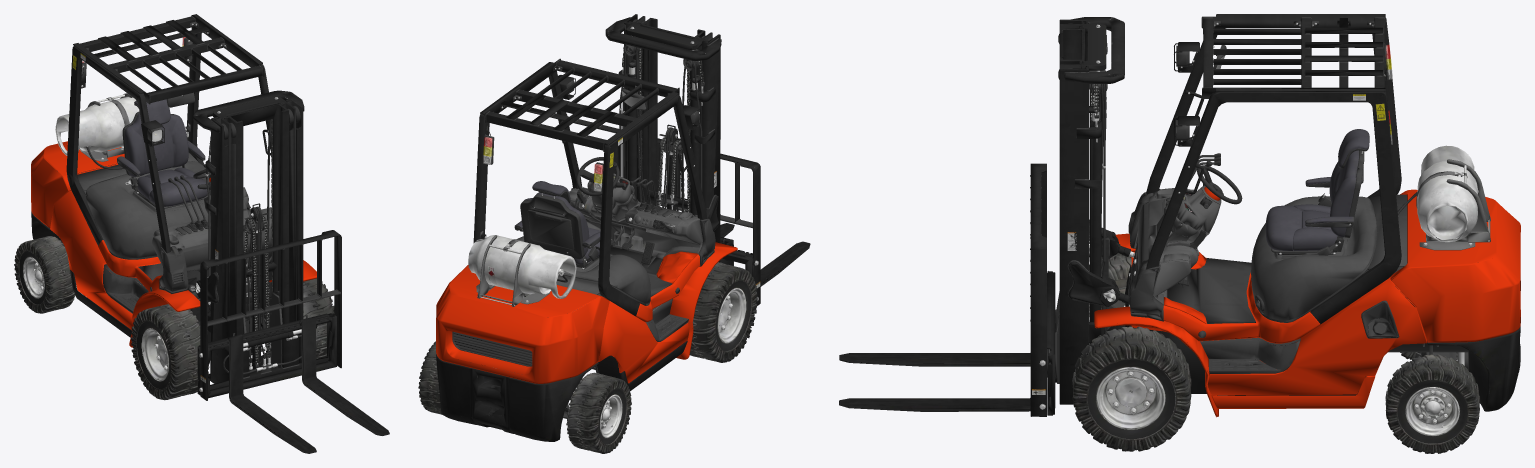
File: fork_red.glb
The picture shows the model from 3 angles, left to right: view 1: azimuth 30°, elevation 25°; view 2: azimuth 150°, elevation 25°; view 3: azimuth 270°, elevation 25°; orthographic projection. The views are drawn at different scales.
Visible parts, largest first — view 1: sm_body_c01_mesh_00, sm_mast_stage2_c01_mesh_00, sm_mast_stage4_c01_mesh_00, sm_wheel4_c01_mesh_00, sm_seat_c01_mesh_00, sm_mast_stage1_c01_mesh_00, sm_wheel2_c01_mesh_00, sm_mast_stage3_c01_mesh_00, sm_fork2_c01_mesh_00, sm_fork1_c01_mesh_00, sm_wheel3_c01_mesh_00, sm_seat_head_top_c01_mesh_00; view 2: sm_body_c01_mesh_00, sm_wheel4_c01_mesh_00, sm_wheel2_c01_mesh_00, sm_mast_stage2_c01_mesh_00, sm_seat_c01_mesh_00, sm_mast_stage4_c01_mesh_00, sm_mast_stage1_c01_mesh_00, sm_wheel1_c01_mesh_00, sm_fork1_c01_mesh_00, sm_steering_wheel_c01_mesh_00, sm_lightglass_c01_mesh_00, sm_seat_head_top_c01_mesh_00; view 3: sm_body_c01_mesh_00, sm_wheel3_c01_mesh_00, sm_wheel1_c01_mesh_00, sm_seat_c01_mesh_00, sm_mast_stage4_c01_mesh_00, sm_fork2_c01_mesh_00, sm_fork1_c01_mesh_00, sm_mast_stage1_c01_mesh_00, sm_mast_stage3_c01_mesh_00, sm_mast_stage2_c01_mesh_00, sm_wheel4_c01_mesh_00, sm_seat_head_top_c01_mesh_00 (+1 smaller).
Boxes of the visible parts, x1=… form: sm_body_c01_mesh_00: x1=31, y1=14, x2=316, y2=383; sm_mast_stage2_c01_mesh_00: x1=224, y1=103, x2=288, y2=370; sm_mast_stage4_c01_mesh_00: x1=199, y1=230, x2=341, y2=400; sm_wheel4_c01_mesh_00: x1=130, y1=304, x2=209, y2=400; sm_seat_c01_mesh_00: x1=122, y1=111, x2=207, y2=208; sm_mast_stage1_c01_mesh_00: x1=212, y1=96, x2=295, y2=379; sm_wheel2_c01_mesh_00: x1=14, y1=236, x2=75, y2=313; sm_mast_stage3_c01_mesh_00: x1=197, y1=291, x2=333, y2=394; sm_fork2_c01_mesh_00: x1=299, y1=315, x2=389, y2=435; sm_fork1_c01_mesh_00: x1=226, y1=333, x2=316, y2=453; sm_wheel3_c01_mesh_00: x1=271, y1=278, x2=334, y2=358; sm_seat_head_top_c01_mesh_00: x1=134, y1=99, x2=170, y2=124; sm_body_c01_mesh_00: x1=436, y1=14, x2=737, y2=441; sm_wheel4_c01_mesh_00: x1=689, y1=262, x2=757, y2=362; sm_wheel2_c01_mesh_00: x1=566, y1=372, x2=631, y2=453; sm_mast_stage2_c01_mesh_00: x1=638, y1=18, x2=705, y2=211; sm_seat_c01_mesh_00: x1=520, y1=192, x2=600, y2=267; sm_mast_stage4_c01_mesh_00: x1=614, y1=138, x2=760, y2=305; sm_mast_stage1_c01_mesh_00: x1=626, y1=16, x2=712, y2=201; sm_wheel1_c01_mesh_00: x1=418, y1=341, x2=441, y2=414; sm_fork1_c01_mesh_00: x1=720, y1=237, x2=810, y2=286; sm_steering_wheel_c01_mesh_00: x1=576, y1=157, x2=619, y2=196; sm_lightglass_c01_mesh_00: x1=483, y1=137, x2=603, y2=191; sm_seat_head_top_c01_mesh_00: x1=532, y1=181, x2=570, y2=202; sm_body_c01_mesh_00: x1=1059, y1=14, x2=1520, y2=417; sm_wheel3_c01_mesh_00: x1=1072, y1=326, x2=1191, y2=451; sm_wheel1_c01_mesh_00: x1=1385, y1=354, x2=1479, y2=453; sm_seat_c01_mesh_00: x1=1265, y1=150, x2=1364, y2=252; sm_mast_stage4_c01_mesh_00: x1=1030, y1=163, x2=1051, y2=416; sm_fork2_c01_mesh_00: x1=839, y1=398, x2=1030, y2=411; sm_fork1_c01_mesh_00: x1=839, y1=353, x2=1030, y2=366; sm_mast_stage1_c01_mesh_00: x1=1058, y1=21, x2=1106, y2=121; sm_mast_stage3_c01_mesh_00: x1=1047, y1=271, x2=1059, y2=415; sm_mast_stage2_c01_mesh_00: x1=1056, y1=26, x2=1089, y2=331; sm_wheel4_c01_mesh_00: x1=1089, y1=253, x2=1131, y2=316; sm_seat_head_top_c01_mesh_00: x1=1338, y1=129, x2=1369, y2=168.
Bounding box in the file's own units: 1.36 × 2.17 × 3.73.
Materials: 19 (13 with a texture image).
